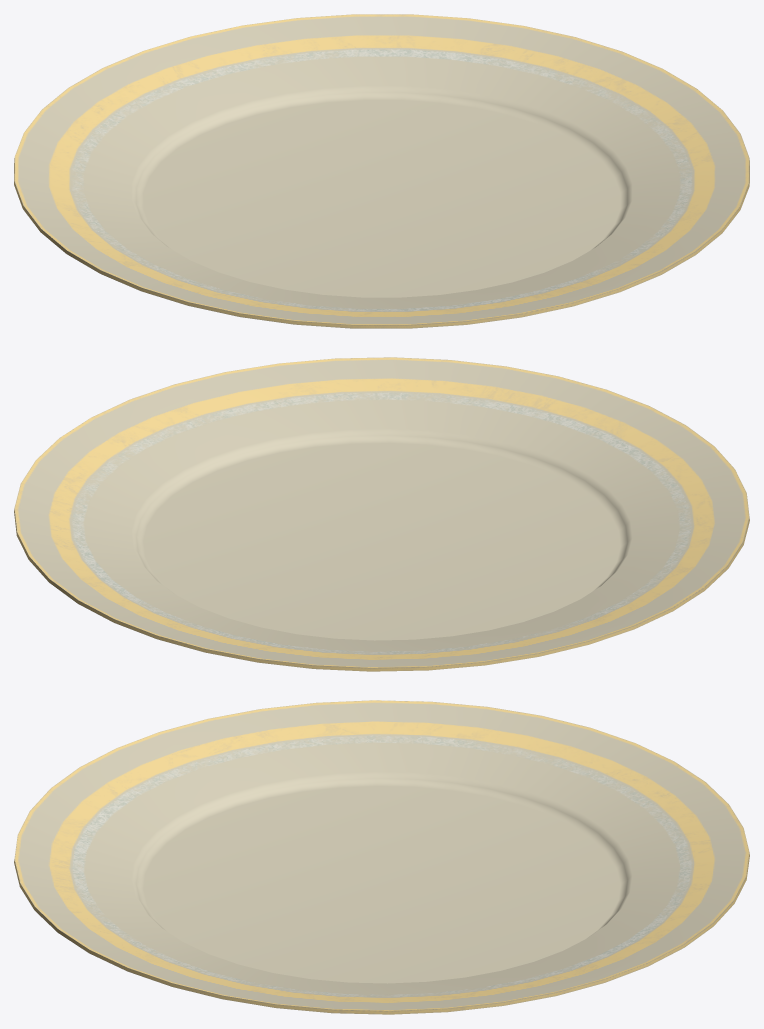
The model's file is plate.fbx.
3 views of the same model, one above another, from view 1: azimuth 30°, elevation 25°; view 2: azimuth 150°, elevation 25°; view 3: azimuth 270°, elevation 25° (orthographic).
Parts seen in each view (by area): view 1: Plate1; view 2: Plate1; view 3: Plate1.
Boxes of the visible parts, <box> form: Plate1: <box>14,14,749,328</box>; Plate1: <box>14,357,749,671</box>; Plate1: <box>14,700,749,1014</box>.
Bounding box in the file's own units: 10.79 × 0.6041 × 10.79.
1 material, 1 textured.
